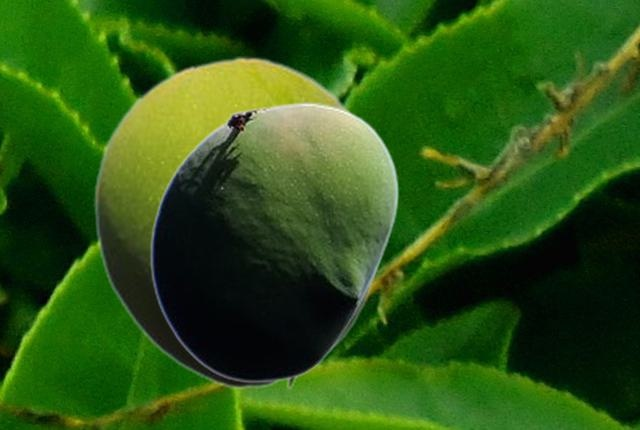green_mango: (93, 56, 354, 389), (149, 101, 399, 382)
